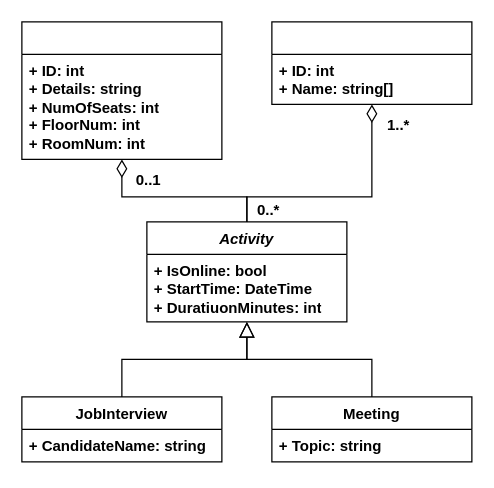
Some shapes in this 494 by 488 pixel diagram are drawn without their labels. The box of each missing label's shape, as (x1, y1, x2, y2) in pixels:
Employee: (271, 21, 472, 104)
MeetingRoom: (21, 21, 222, 159)
